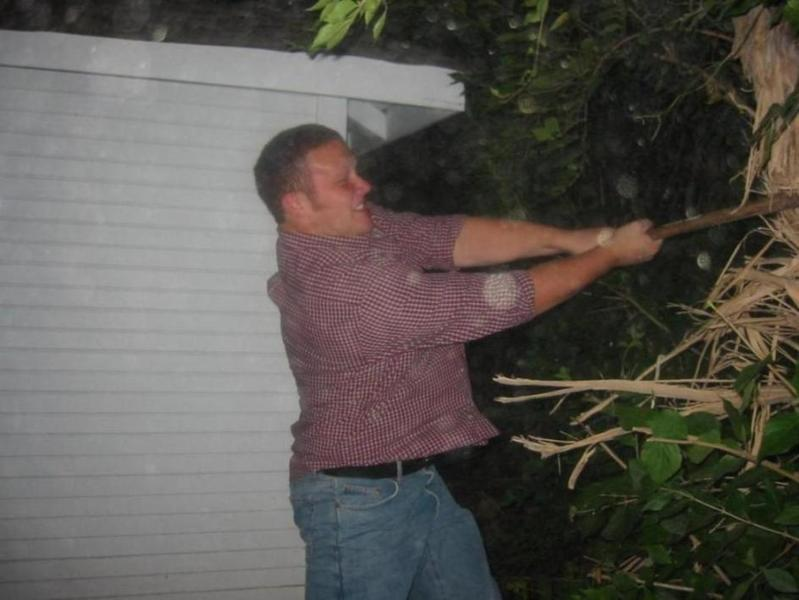person: (254, 123, 664, 600)
